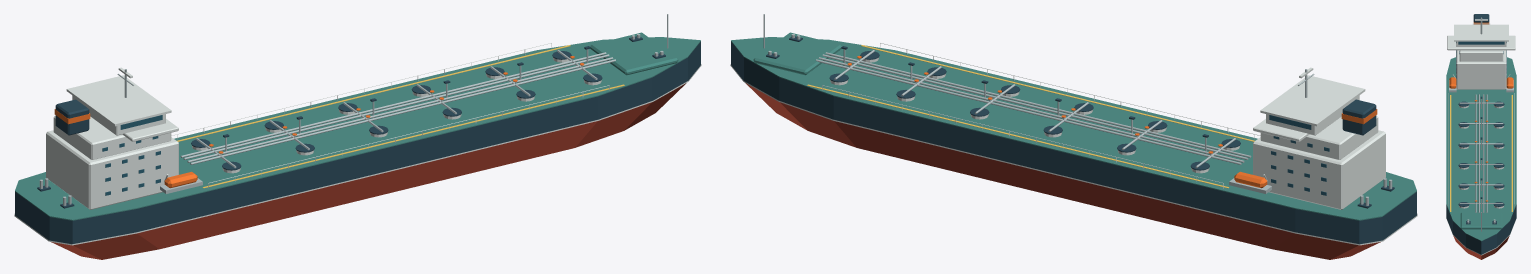
File: oko-tanker.glb
3 renders of one model, left to right at view 1: azimuth 30°, elevation 25°; view 2: azimuth 150°, elevation 25°; view 3: azimuth 270°, elevation 25°, orthographic. The views are drawn at different scales.
Parts seen in each view (by area): view 1: OKO generic tanker; view 2: OKO generic tanker; view 3: OKO generic tanker.
Part boxes in pixels (x1,y1,x2,y2): OKO generic tanker: [14, 14, 701, 259]; OKO generic tanker: [730, 14, 1417, 259]; OKO generic tanker: [1446, 14, 1516, 259].
Size of the model in its own units: 200 by 46 by 32.06.
